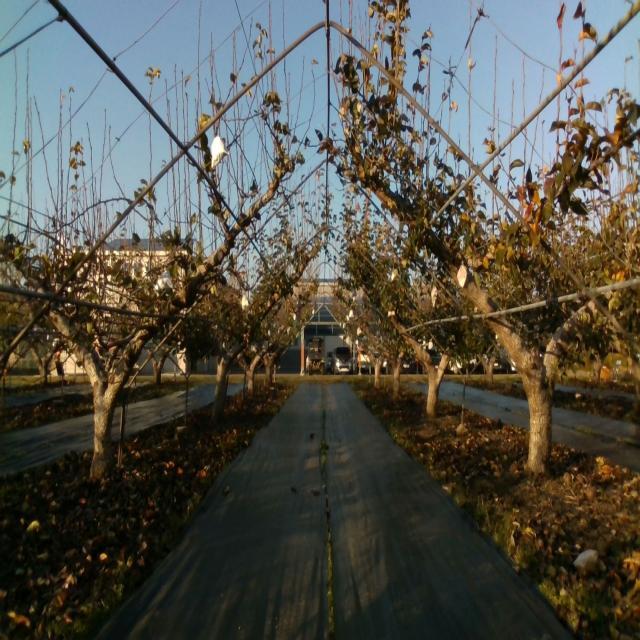pearbags: (211, 136, 230, 170), (155, 270, 173, 291), (457, 261, 468, 289)
